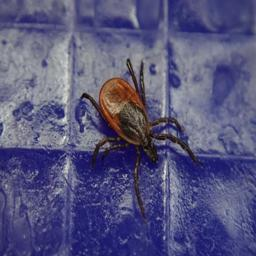Ixodes scapularis: (82, 60, 195, 216)
